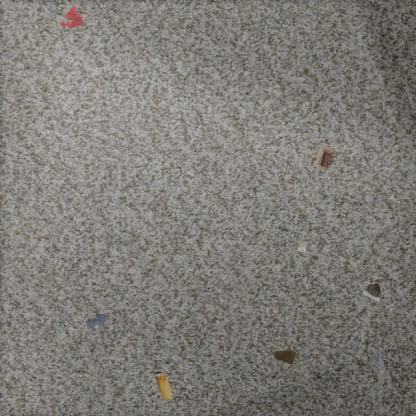dirty: (314, 144, 342, 173), (151, 369, 175, 401), (368, 349, 388, 385), (361, 276, 382, 302), (272, 348, 298, 367), (295, 241, 310, 264)
liquid: (59, 6, 85, 28), (85, 313, 109, 330)
